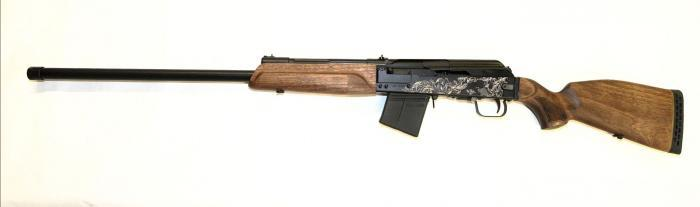larga: (27, 54, 685, 156)
